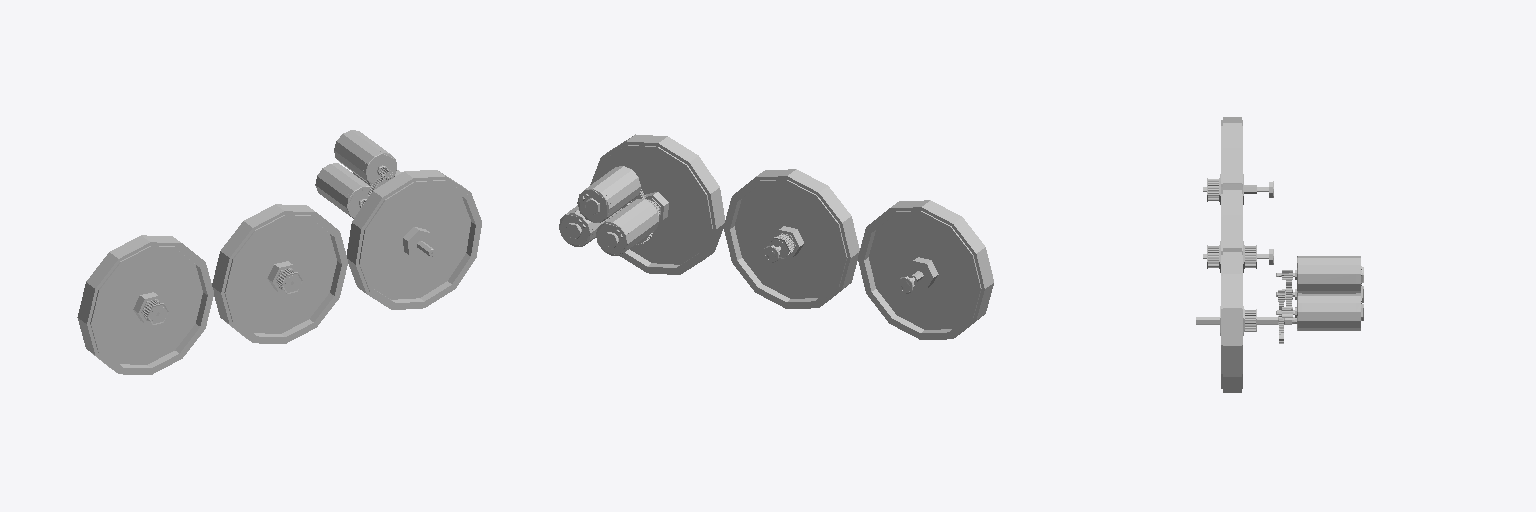
The model's file is robot-right-drive.obj.
3 views of the same model, side by side, from view 1: azimuth 30°, elevation 25°; view 2: azimuth 150°, elevation 25°; view 3: azimuth 270°, elevation 25° (orthographic).
Visible parts, largest first — view 1: Robot; view 2: Robot; view 3: Robot.
Boxes of the visible parts, <box> form: Robot: <box>77,130,481,374</box>; Robot: <box>559,134,993,339</box>; Robot: <box>1196,117,1363,392</box>.
Size of the model in its own units: 30.75 by 10.03 by 11.32.